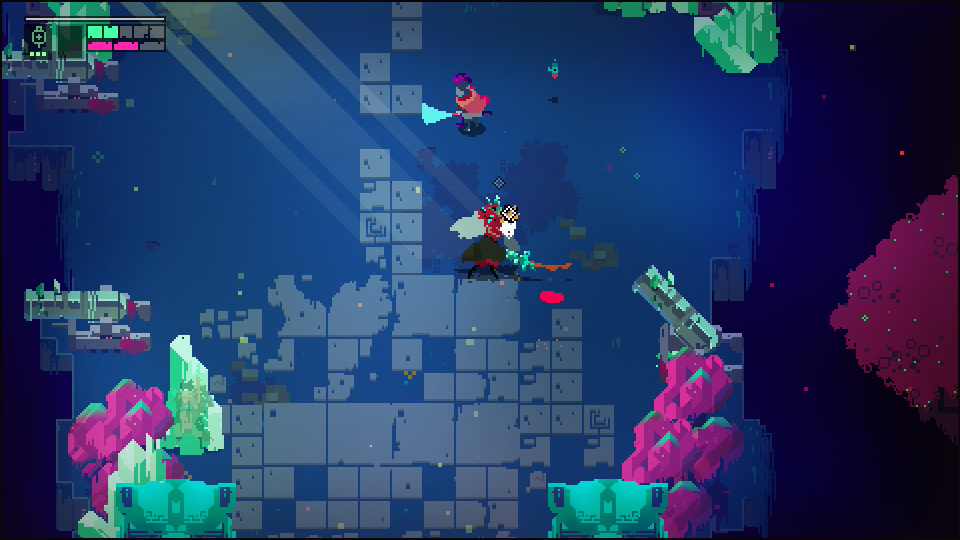hanged_man: (456, 198, 537, 276)
player: (424, 75, 488, 131)
